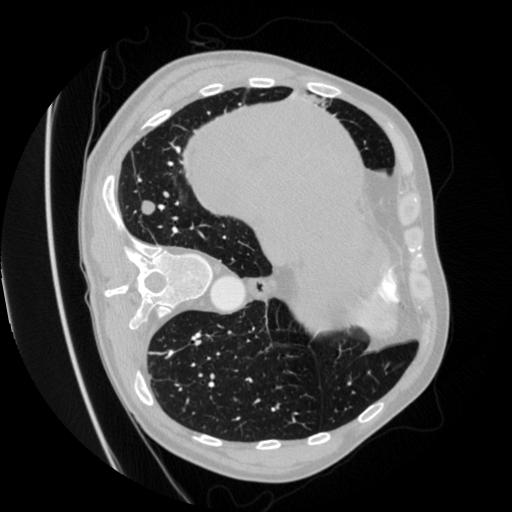nodule: (137, 196, 159, 218)
